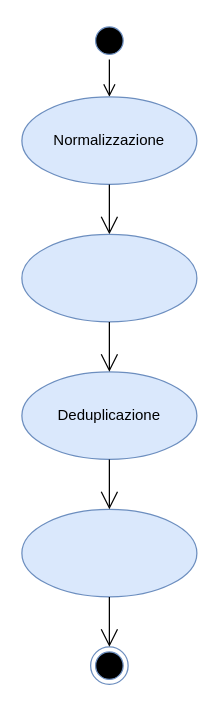
Image size: 219x706. Some labels were removed from this diagram. Each missing label, with the centre of its shape:
"Calcolo delle metriche" goes at (x=109, y=277).
"Confronto delle metriche" goes at (x=109, y=552).
